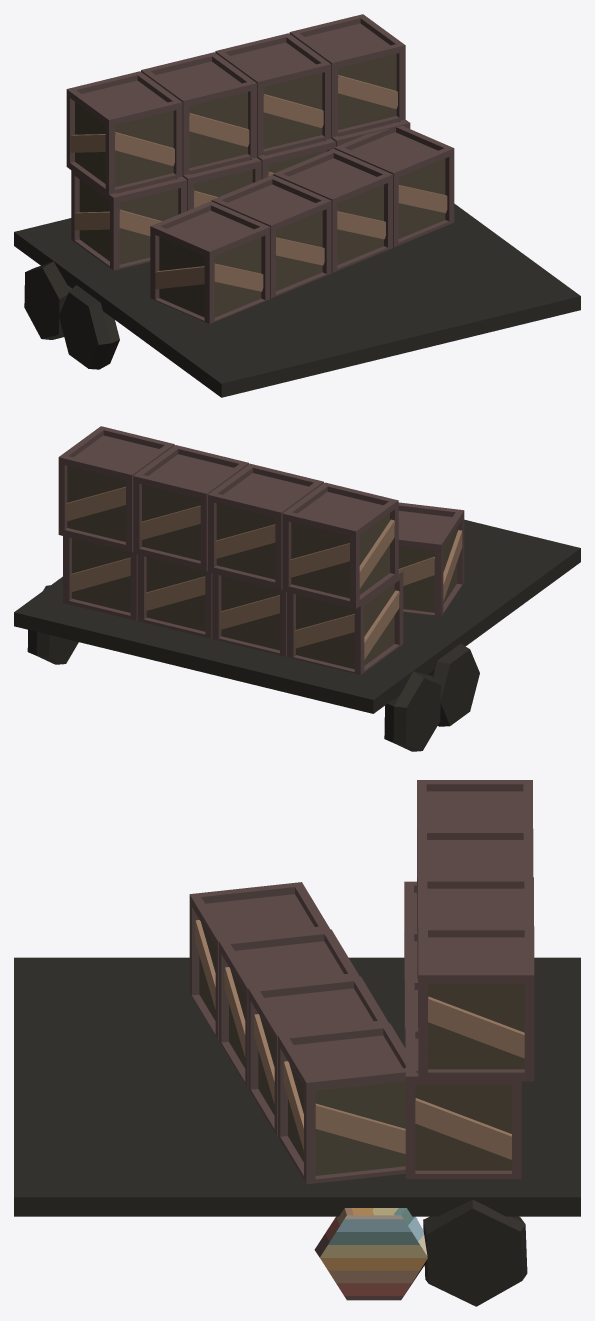
Rendered from SM_Prop_Cart_boxes.fbx.
3 views of the same model, one above another, from view 1: azimuth 30°, elevation 25°; view 2: azimuth 150°, elevation 25°; view 3: azimuth 270°, elevation 25° (orthographic). The views are drawn at different scales.
Parts seen in each view (by area): view 1: Cube, Plane.002, Plane.003, Plane.001, Cylinder.003, Cylinder.004; view 2: Plane.002, Cube, Plane.001, Plane.003, Cylinder.004, Cylinder.003, Cylinder.001; view 3: Cube, Plane.003, Plane.002, Plane.001, Cylinder.001, Cylinder.
Part boxes in pixels (<box>): Cube: <box>14,203,580,397</box>; Plane.002: <box>66,14,405,194</box>; Plane.003: <box>150,122,454,323</box>; Plane.001: <box>71,119,410,270</box>; Cylinder.003: <box>59,285,119,369</box>; Cylinder.004: <box>24,261,71,339</box>; Plane.002: <box>58,426,398,608</box>; Cube: <box>14,519,580,713</box>; Plane.001: <box>63,536,403,674</box>; Plane.003: <box>398,502,464,616</box>; Cylinder.004: <box>384,671,440,751</box>; Cylinder.003: <box>427,643,479,726</box>; Cylinder.001: <box>27,585,78,664</box>; Cube: <box>14,957,580,1216</box>; Plane.003: <box>189,882,418,1184</box>; Plane.002: <box>417,780,534,1081</box>; Plane.001: <box>404,881,521,1178</box>; Cylinder.001: <box>423,1199,527,1306</box>; Cylinder: <box>314,1208,427,1300</box>.
Bounding box in the file's own units: 624 × 657 × 380.
